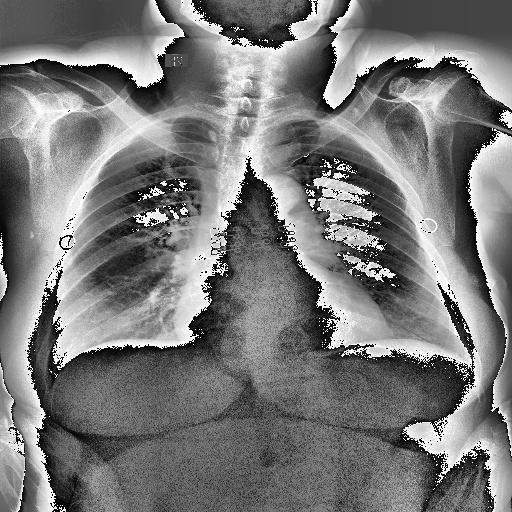0- Aortic enlargement: (250, 176, 308, 222), (252, 177, 311, 219), (250, 173, 304, 218)
3- Cardiomegaly: (170, 304, 394, 364)
